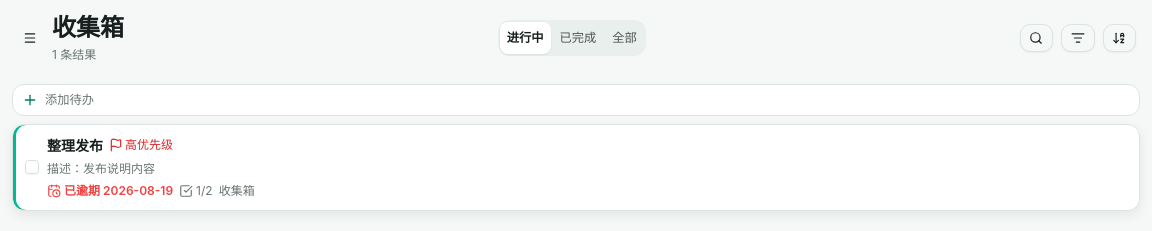
Scenario: TaskListPane — 完成、删除与快捷创建 › 完成选中任务后 active-only 移除行并提供撤销
The width and height of the screenshot is (1152, 231).
Click the checkbox named "完成整理发布" at (32, 167), box [25, 160, 39, 174]
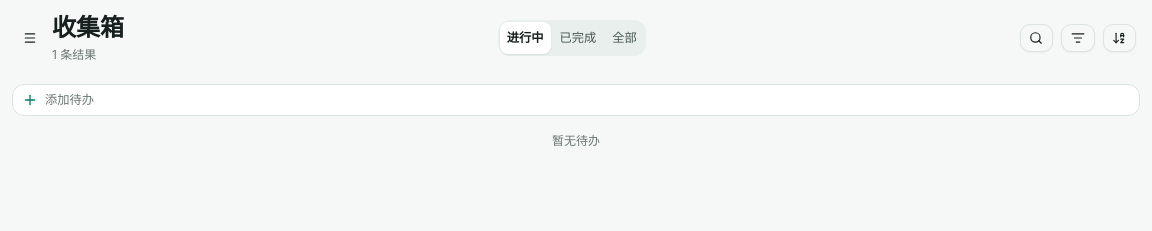
Result: the button "整理发布" is gone
